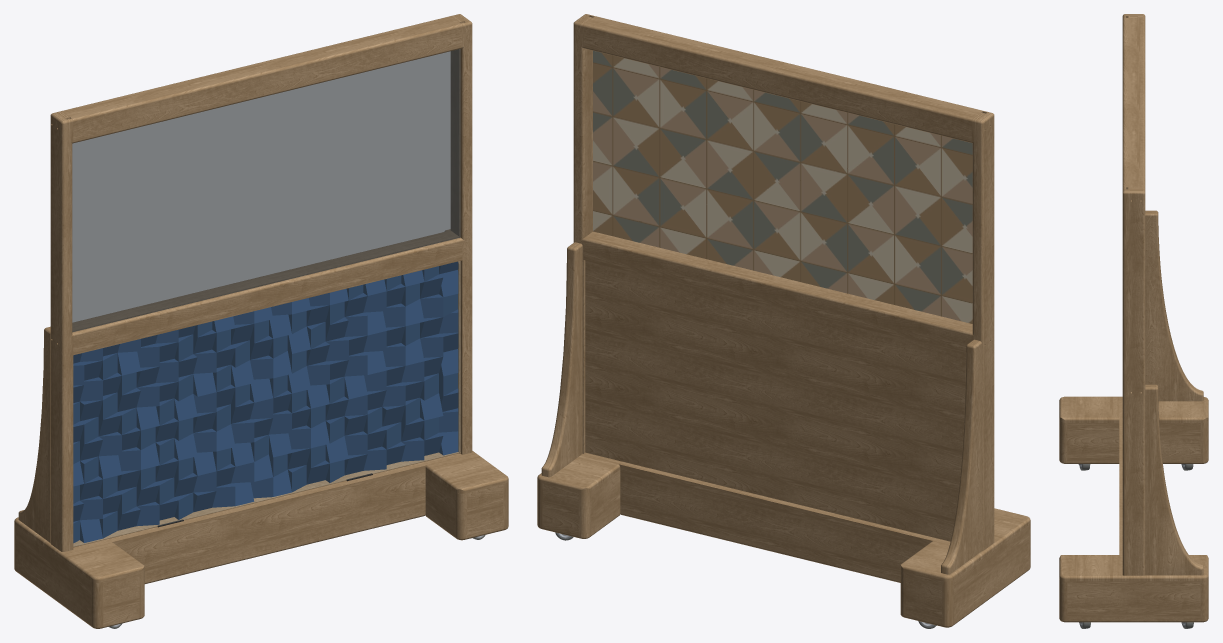
File: v10-linen-marquetry-hazelnut-one.glb
3 views of the same model, side by side, from view 1: azimuth 30°, elevation 25°; view 2: azimuth 150°, elevation 25°; view 3: azimuth 270°, elevation 25° (orthographic). The views are drawn at different scales.
Visible parts, largest first — view 1: Wood, Cover glass, Linen Marquetry reverse, Navy Everwood relief; view 2: Wood, Linen Marquetry print; view 3: Wood, Nonmarking rubber.
Part boxes in pixels (x1,y1,x2,y2): Wood: [14, 14, 508, 628]; Cover glass: [74, 261, 459, 545]; Linen Marquetry reverse: [72, 49, 460, 331]; Navy Everwood relief: [73, 261, 458, 543]; Wood: [537, 14, 1030, 627]; Linen Marquetry print: [593, 50, 972, 323]; Wood: [1059, 14, 1208, 622]; Nonmarking rubber: [1079, 464, 1193, 628].
Size of the model in its own units: 1.68 by 1.91 by 0.5842.
Materials: 10 (2 with a texture image).
